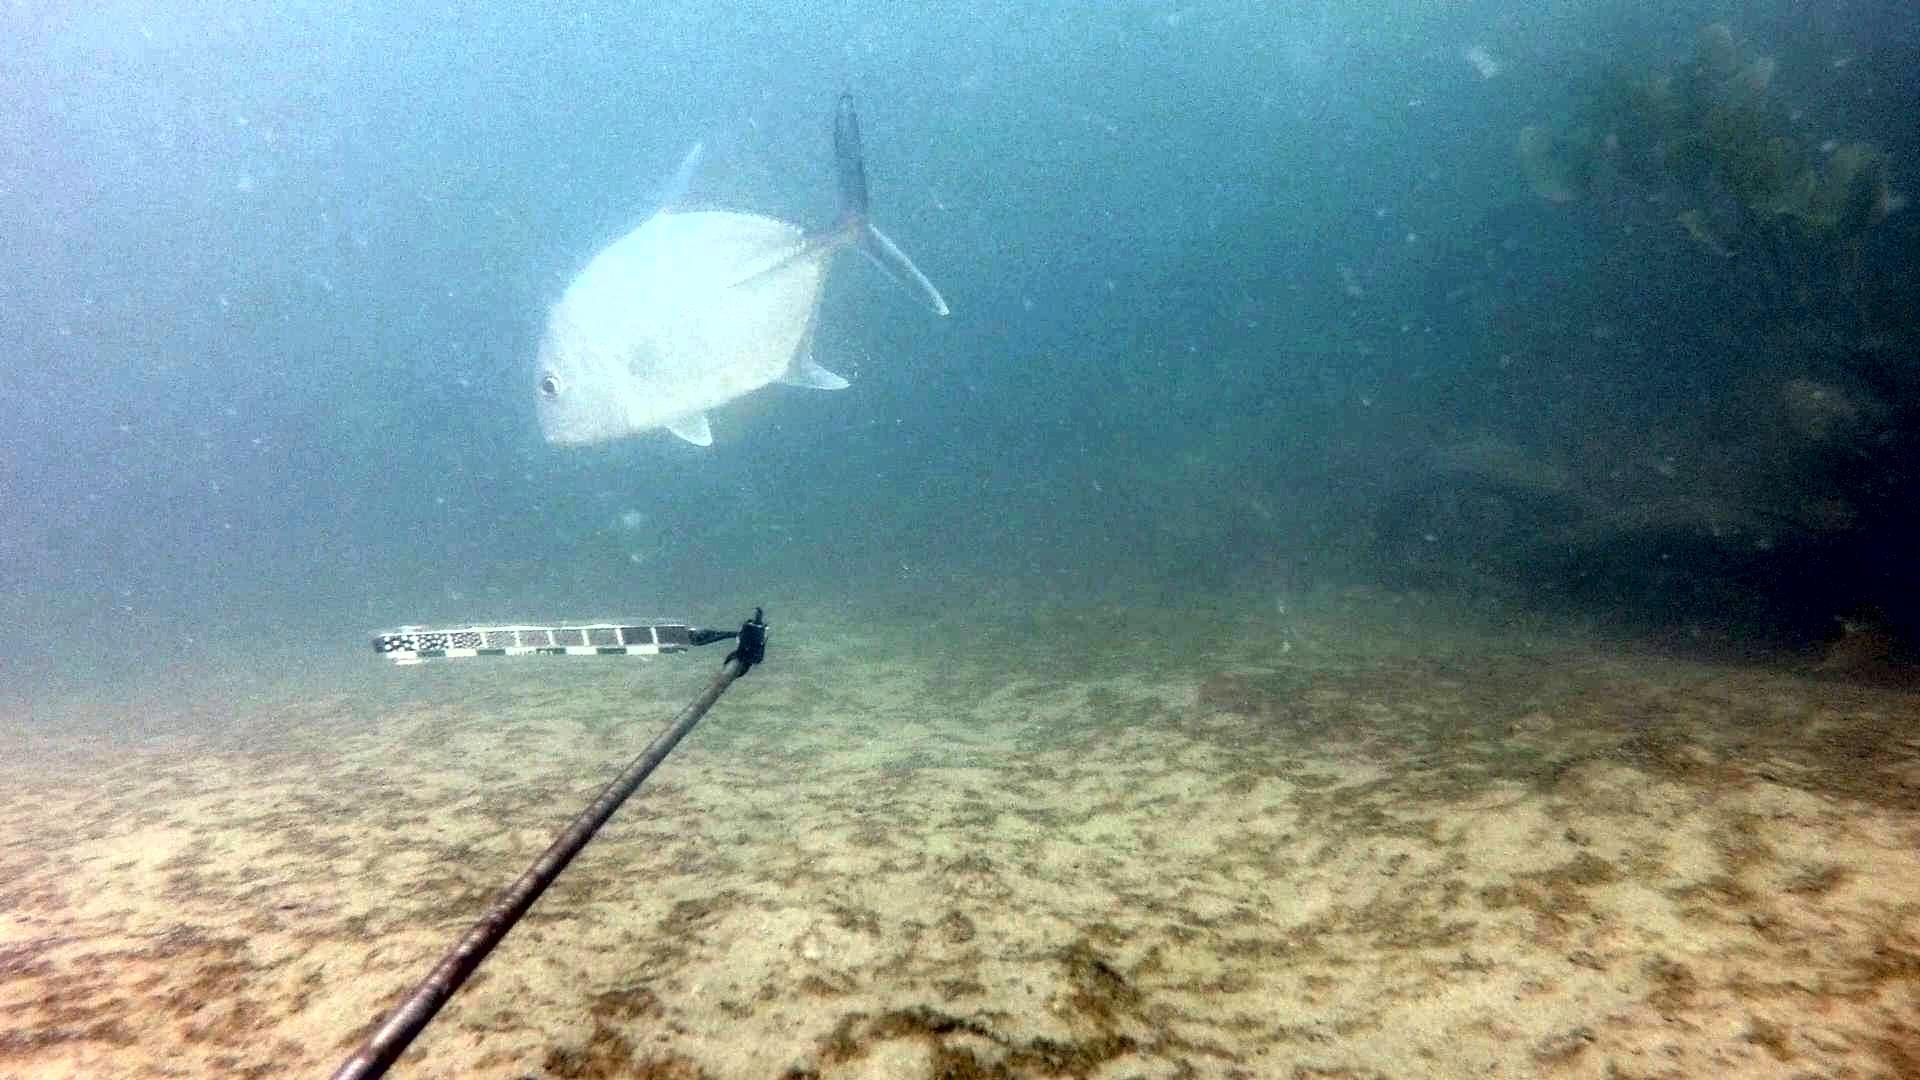caranx: (523, 83, 964, 471)
